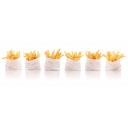frenchfries: (2, 46, 21, 60), (86, 47, 104, 60), (108, 48, 124, 62), (66, 47, 83, 59), (46, 47, 62, 58), (25, 49, 42, 58)
